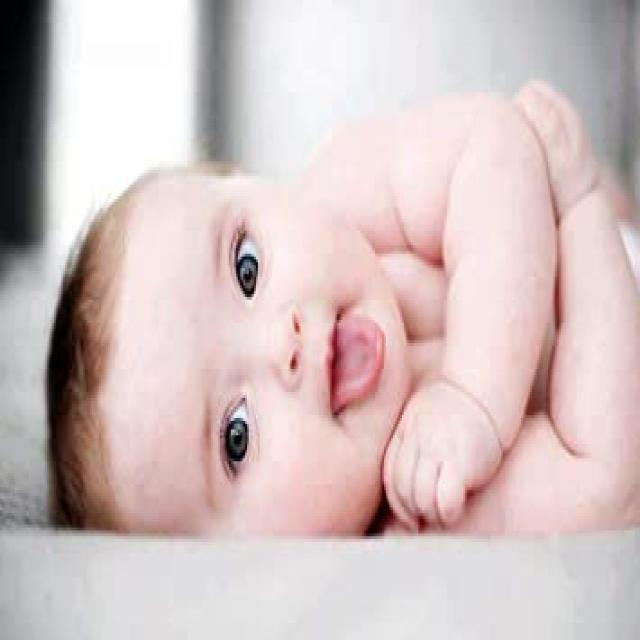non-dog: (39, 84, 640, 541)
